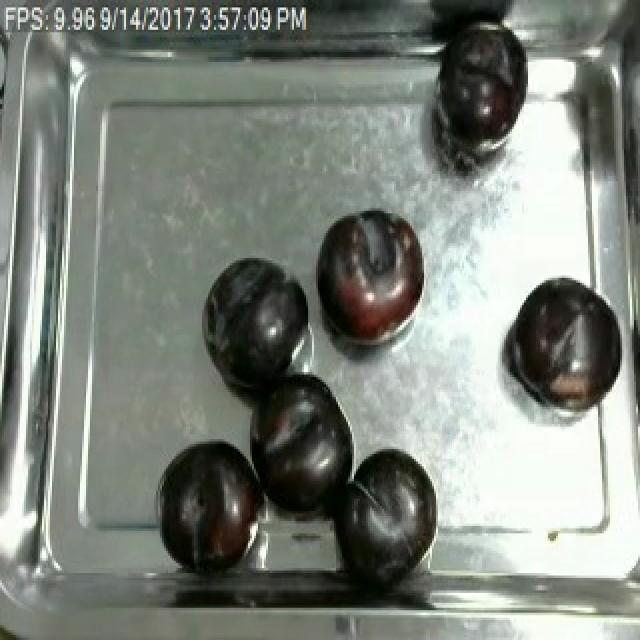Fruit: (310, 204, 428, 358), (246, 367, 362, 521), (506, 276, 624, 420), (152, 432, 270, 573), (198, 253, 312, 397), (332, 439, 444, 583), (430, 7, 538, 156)
